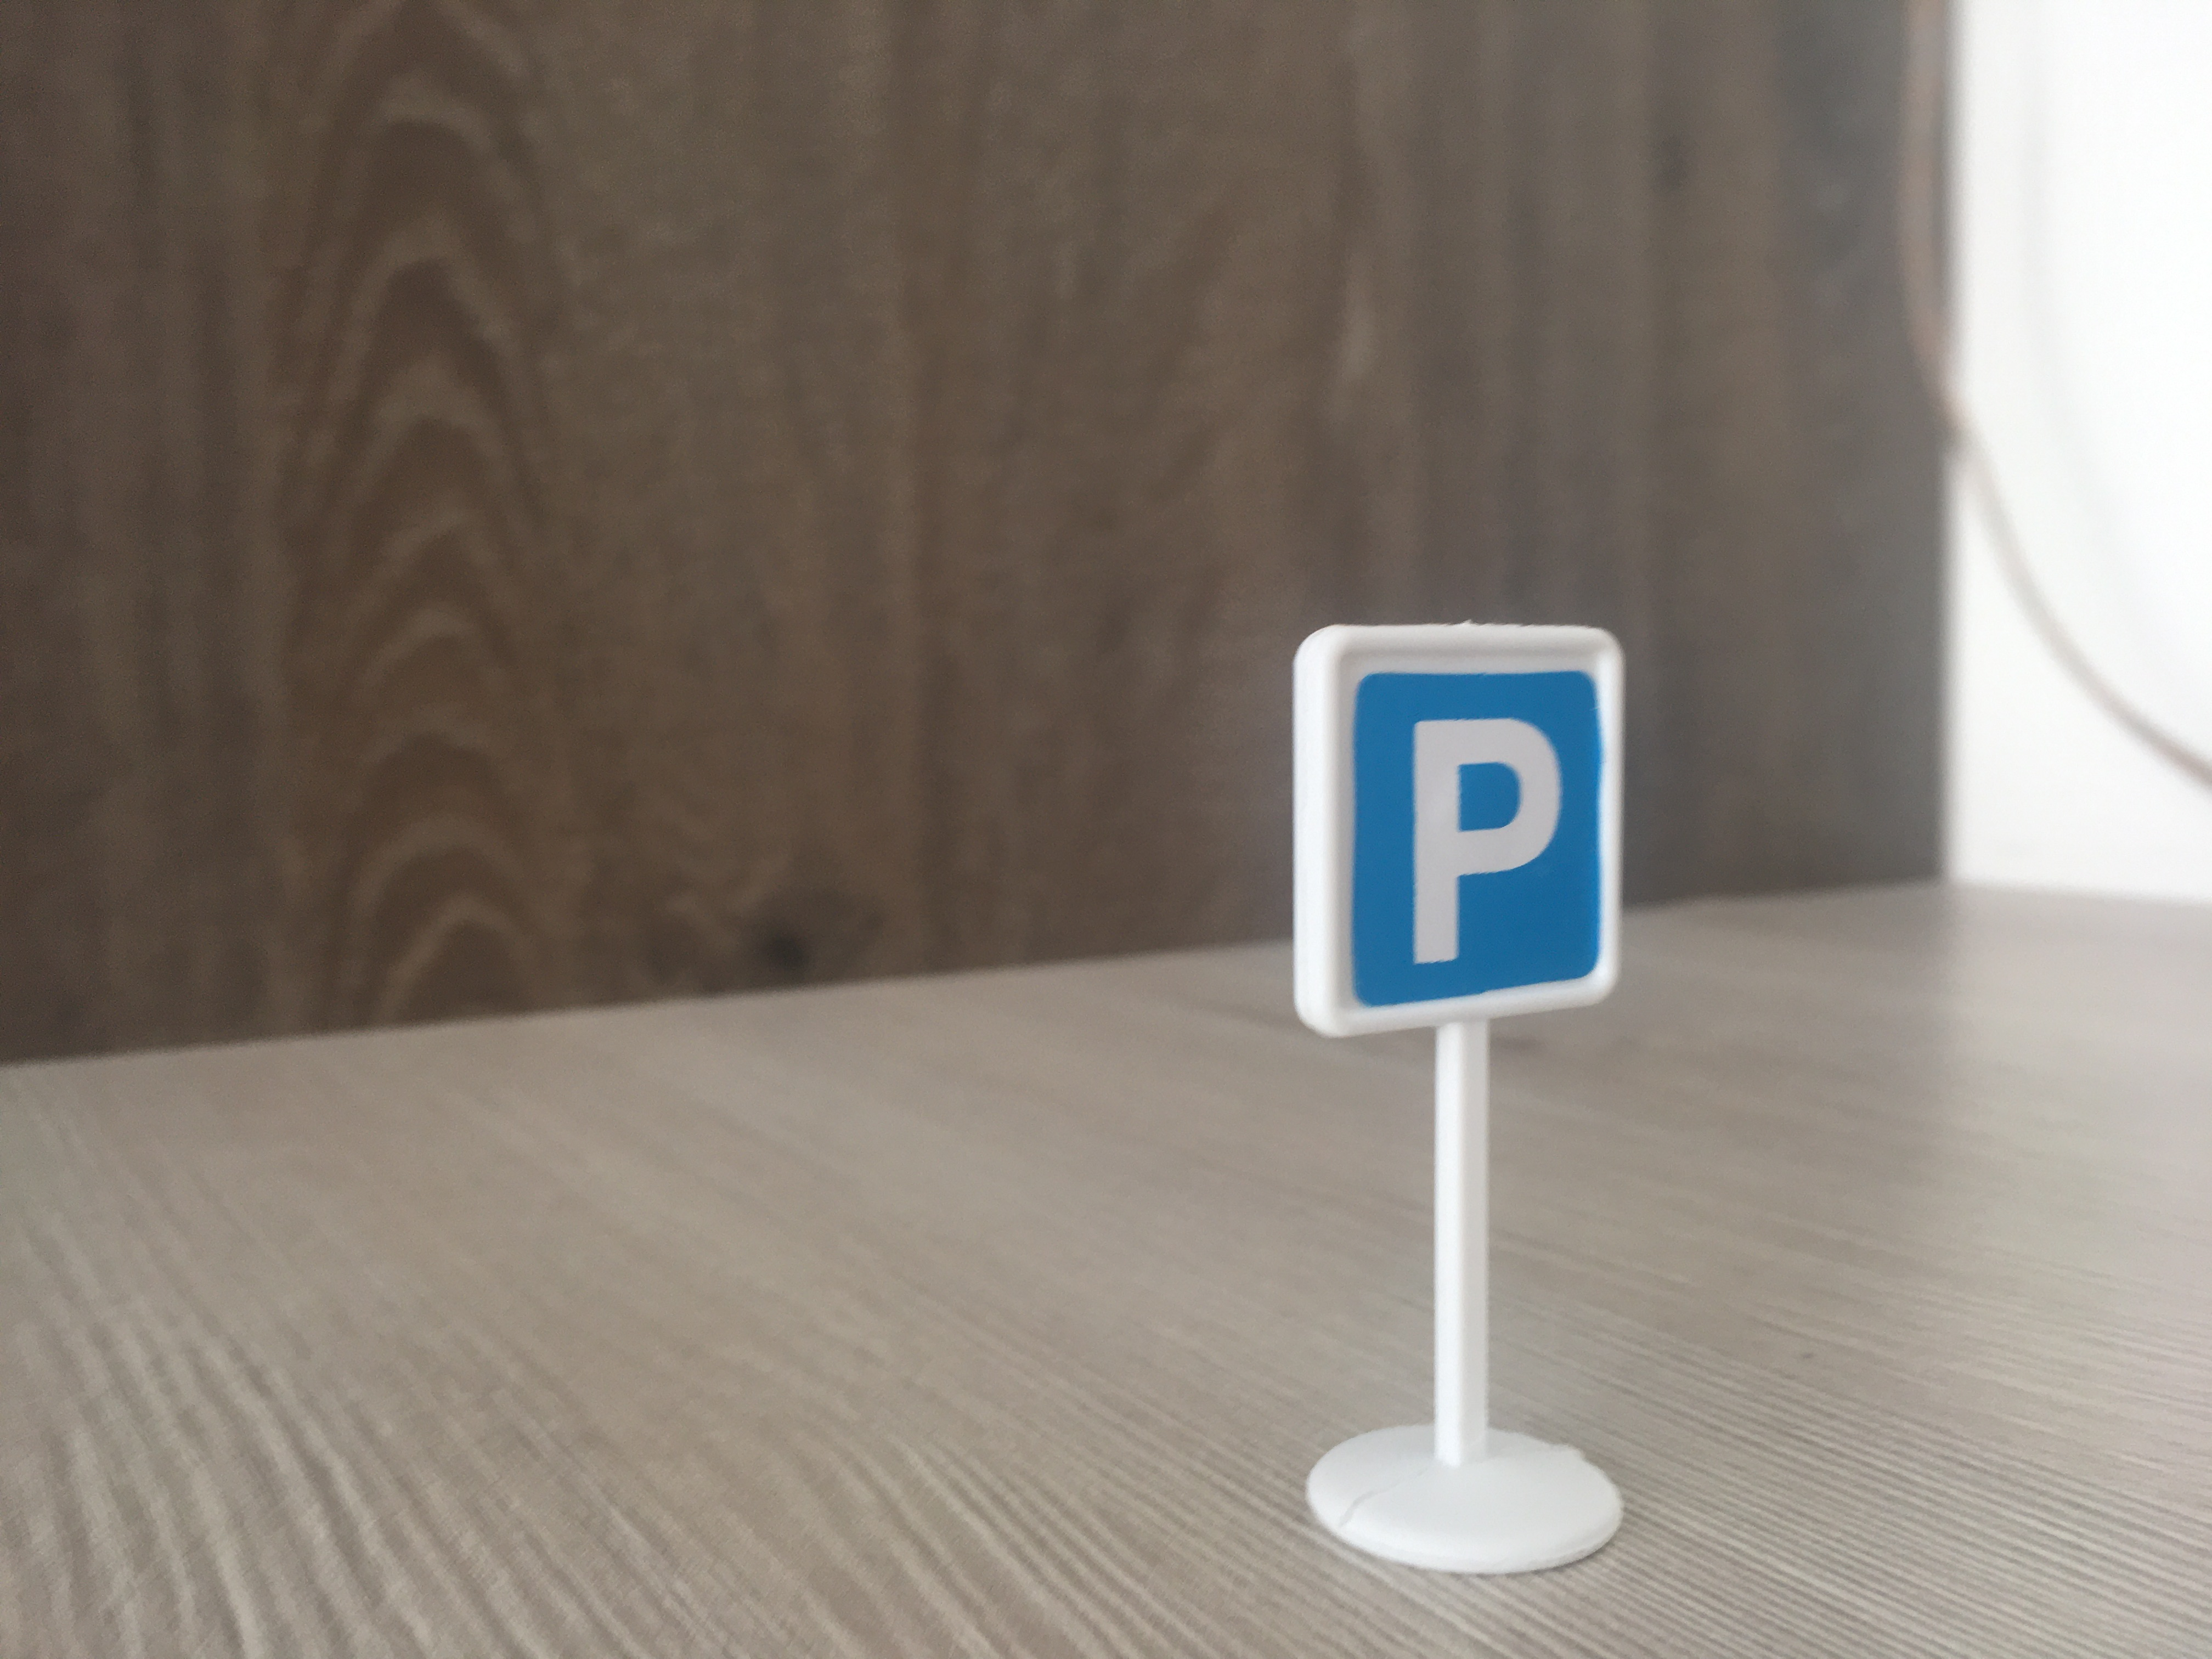parking: (1285, 624, 1629, 1042)
